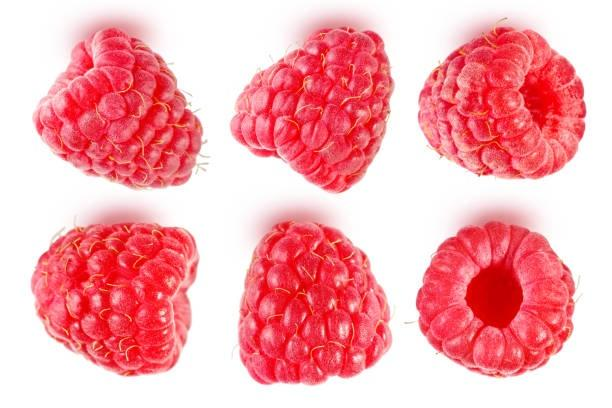raspberry: (31, 26, 206, 189), (415, 220, 576, 377)
strawberry: (229, 25, 394, 193), (417, 19, 586, 180), (30, 220, 199, 377), (237, 219, 392, 385)
